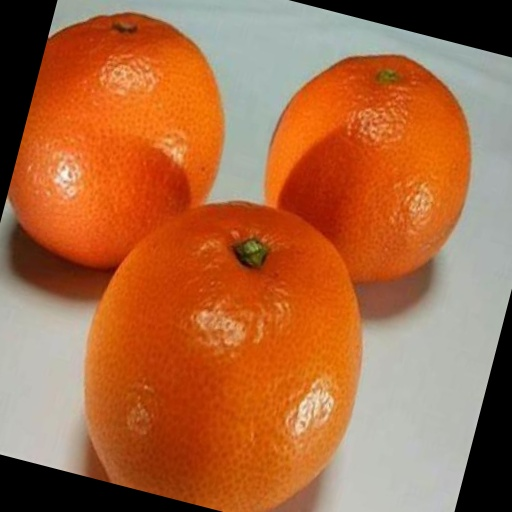fruit: (29, 45, 393, 334), (238, 218, 459, 512), (384, 129, 512, 348)
